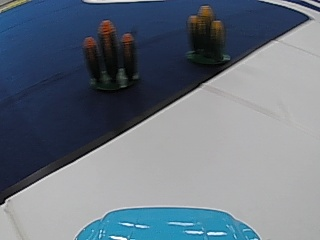corn: (83, 20, 138, 91), (186, 2, 229, 65)
